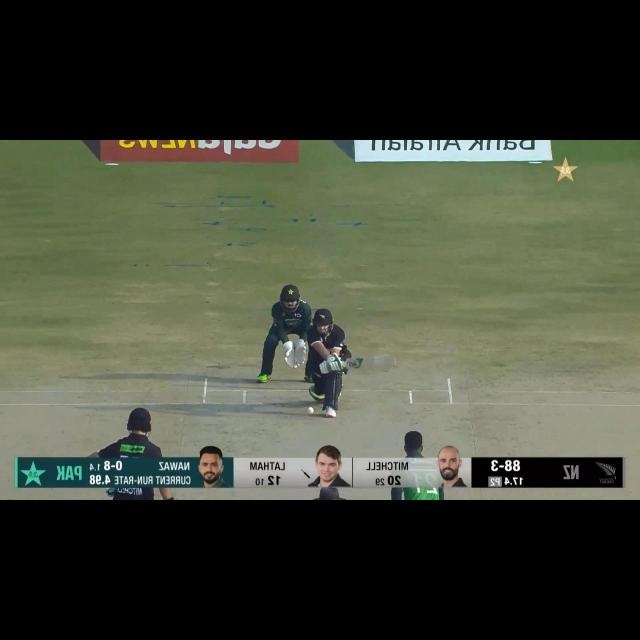bat: (342, 354, 398, 372)
toe: (386, 349, 403, 376)
